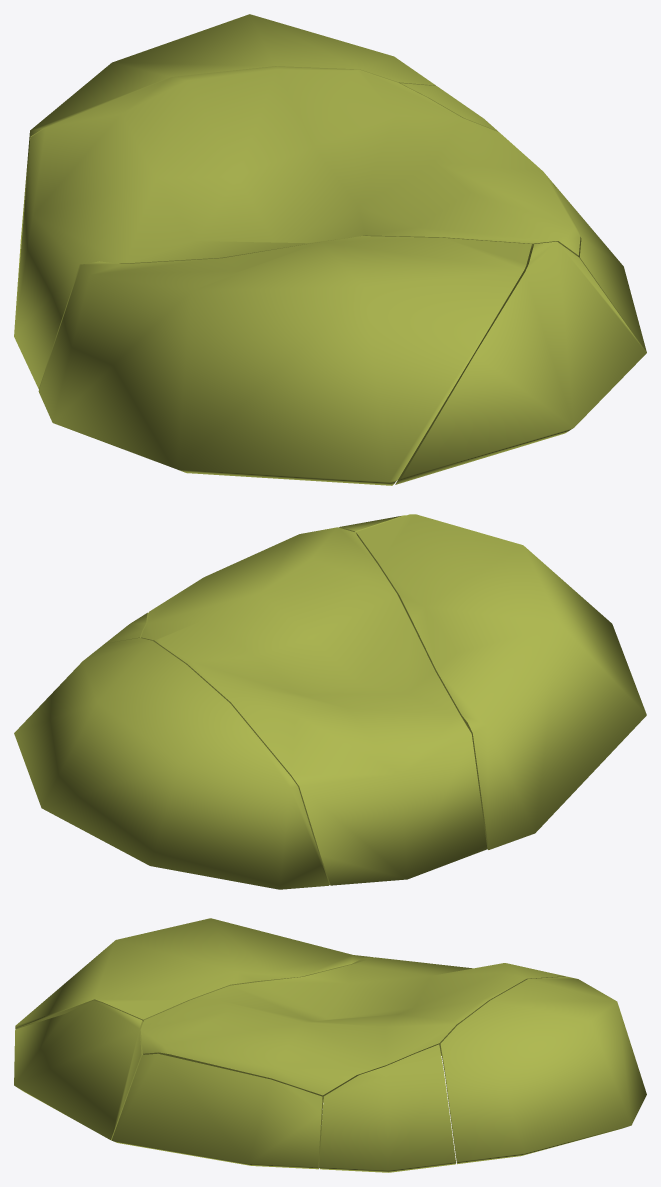
Rendered from Plaque_10.fbx.
The picture shows the model from 3 angles, top to bottom: view 1: azimuth 30°, elevation 25°; view 2: azimuth 150°, elevation 25°; view 3: azimuth 270°, elevation 25°; orthographic projection. The views are drawn at different scales.
Visible parts, largest first — view 1: tooth_d.046_cell, tooth_d.046_cell.005, tooth_d.046_cell.002, tooth_d.046_cell.001, tooth_d.046_cell.003, tooth_d.046_cell.004; view 2: tooth_d.046_cell.005, tooth_d.046_cell, tooth_d.046_cell.001, tooth_d.046_cell.004; view 3: tooth_d.046_cell.005, tooth_d.046_cell.001, tooth_d.046_cell.003, tooth_d.046_cell, tooth_d.046_cell.004, tooth_d.046_cell.002.
Boxes of the visible parts, left/top/right/bottom form: tooth_d.046_cell: left=38, top=236, right=531, bottom=485; tooth_d.046_cell.005: left=14, top=66, right=580, bottom=389; tooth_d.046_cell.002: left=395, top=241, right=646, bottom=484; tooth_d.046_cell.001: left=18, top=14, right=435, bottom=275; tooth_d.046_cell.003: left=553, top=183, right=646, bottom=352; tooth_d.046_cell.004: left=400, top=83, right=498, bottom=131; tooth_d.046_cell.005: left=141, top=527, right=487, bottom=885; tooth_d.046_cell: left=356, top=514, right=646, bottom=849; tooth_d.046_cell.001: left=14, top=638, right=329, bottom=889; tooth_d.046_cell.004: left=105, top=612, right=148, bottom=643; tooth_d.046_cell.005: left=140, top=957, right=565, bottom=1102; tooth_d.046_cell.001: left=440, top=976, right=646, bottom=1164; tooth_d.046_cell.003: left=111, top=1053, right=322, bottom=1169; tooth_d.046_cell: left=15, top=918, right=373, bottom=1028; tooth_d.046_cell.004: left=319, top=1044, right=455, bottom=1172; tooth_d.046_cell.002: left=14, top=1000, right=143, bottom=1140.
Bounding box in the file's own units: 74.71 × 27.94 × 103.
